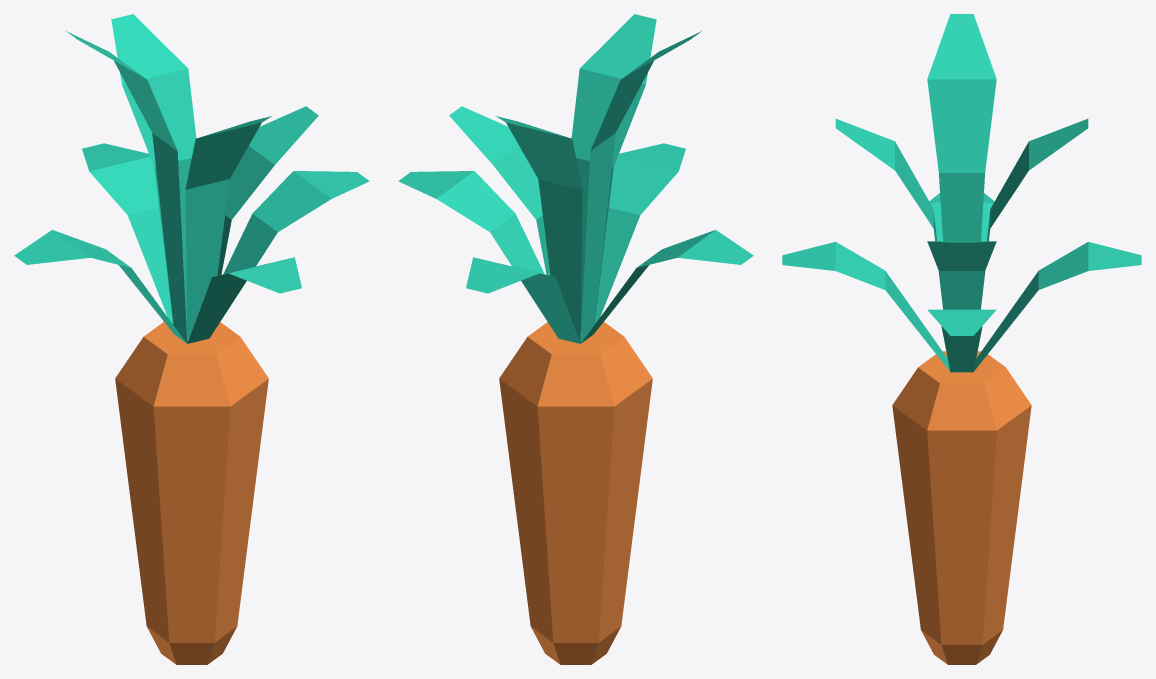
File: crop-carrot.glb
3 renders of one model, left to right at view 1: azimuth 30°, elevation 25°; view 2: azimuth 150°, elevation 25°; view 3: azimuth 270°, elevation 25°, orthographic. The views are drawn at different scales.
Parts seen in each view (by area): view 1: crop_carrot; view 2: crop_carrot; view 3: crop_carrot.
Boxes of the visible parts, box(x1,y1,x2,y2) form: crop_carrot: box(14, 14, 369, 664); crop_carrot: box(398, 14, 753, 664); crop_carrot: box(782, 14, 1141, 664).
Size of the model in its own units: 0.3431 by 0.6194 by 0.3431.
